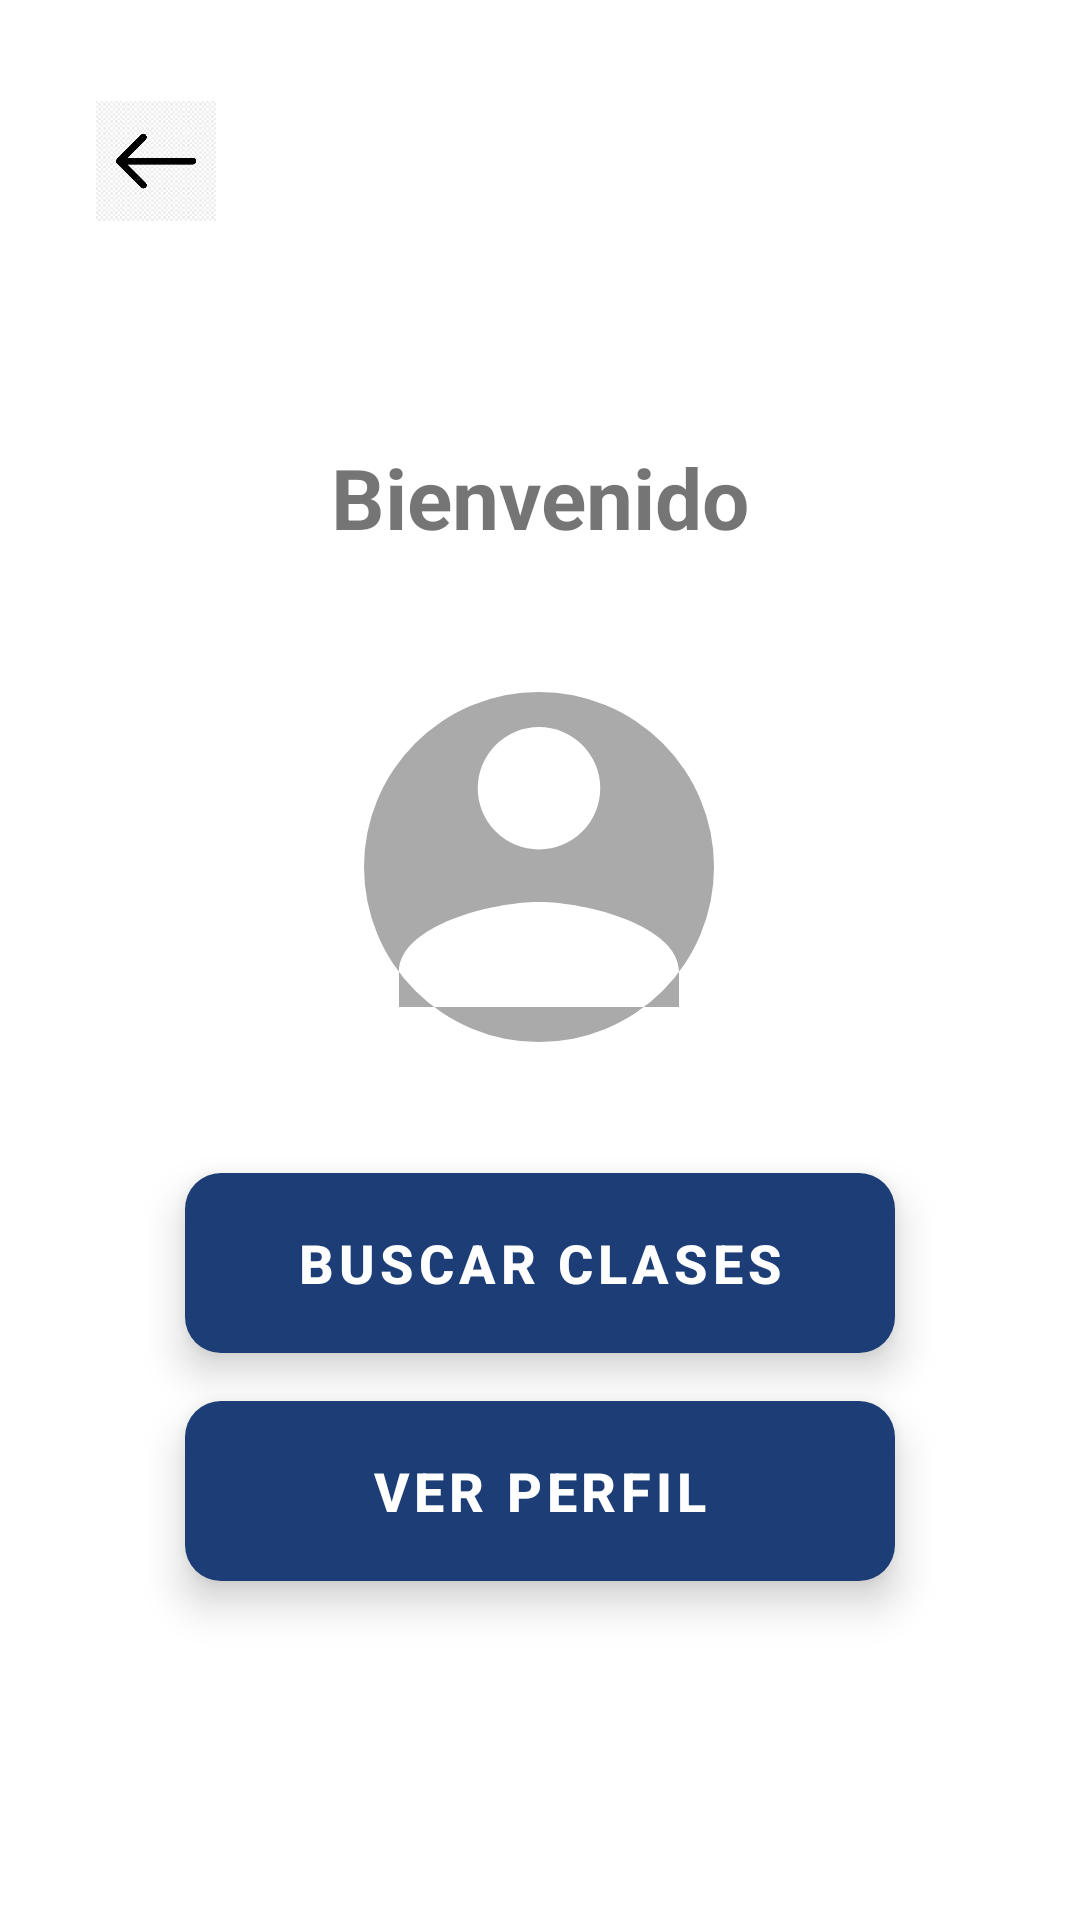

Icon click points for this 1080×1920 phone screenshot, format (x=x, y=y):
Retroceder: (x=156, y=164)
